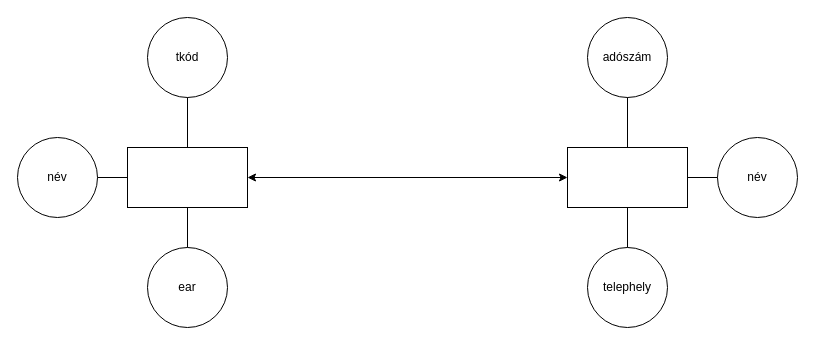
This 815x345 diagram has some shape labels left out. Each missing label, with the box of its shape:
Gyártók: (566, 146, 688, 208)
Termékek: (126, 146, 248, 208)
